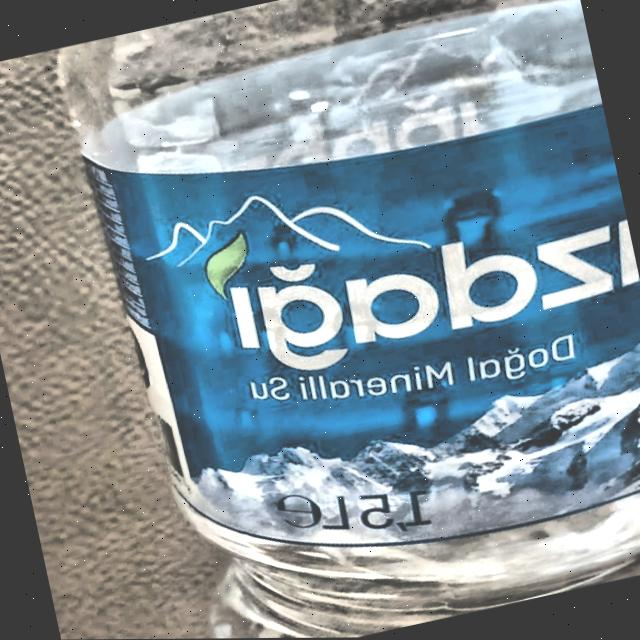plastic: (50, 0, 640, 639)
